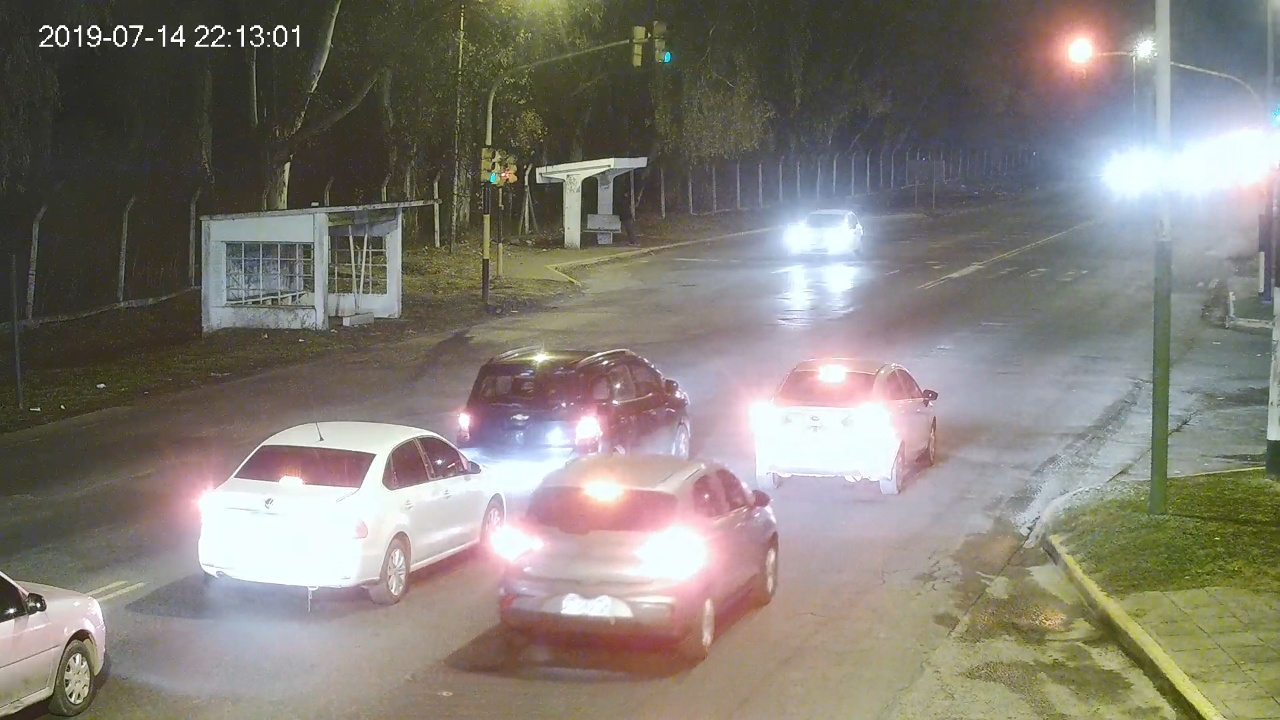car: (499, 456, 779, 659), (756, 357, 939, 494), (1, 567, 106, 720)
front car: (793, 210, 863, 259)
traffic light: (1073, 39, 1088, 80)
